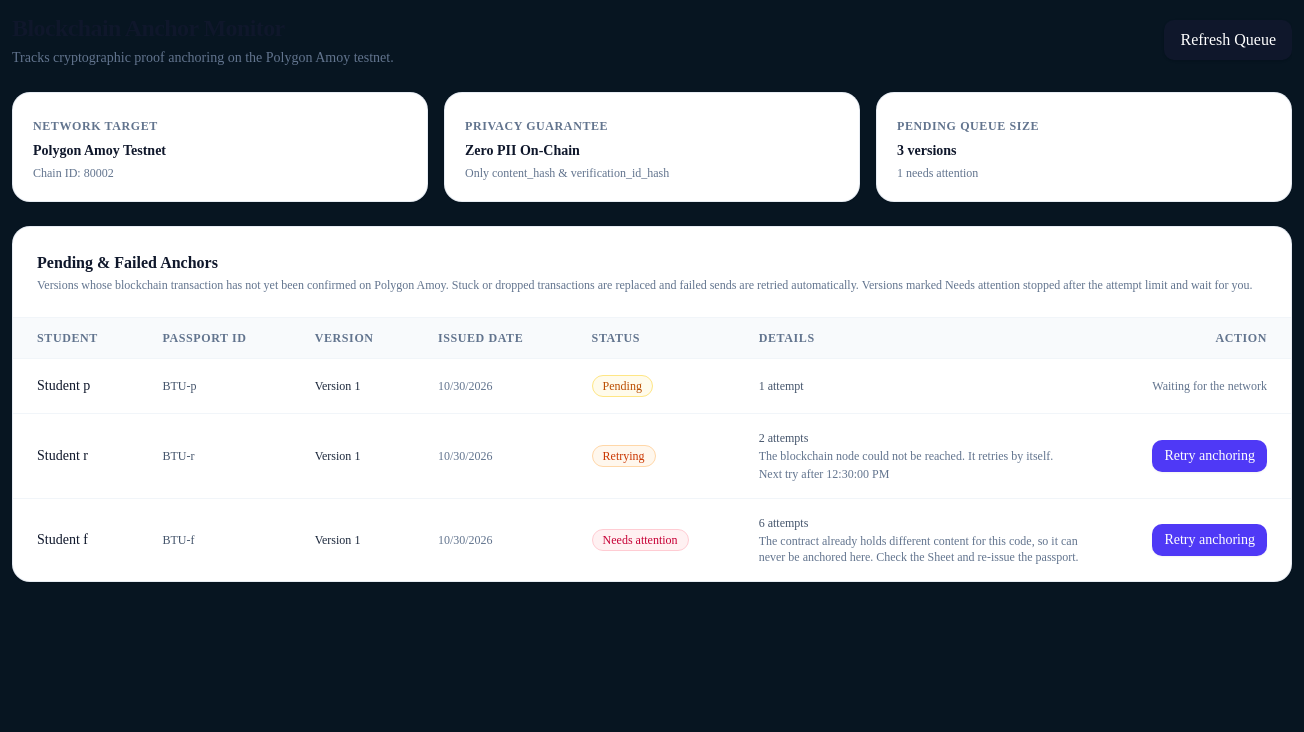
admin anchor monitor › says why when the retry still fails
Check: the link "Student f" is shown, box [37,532,88,547]
Click the button "Retry anchoring" in the row of "Student f" at (1210, 540), box [1152,524,1267,556]
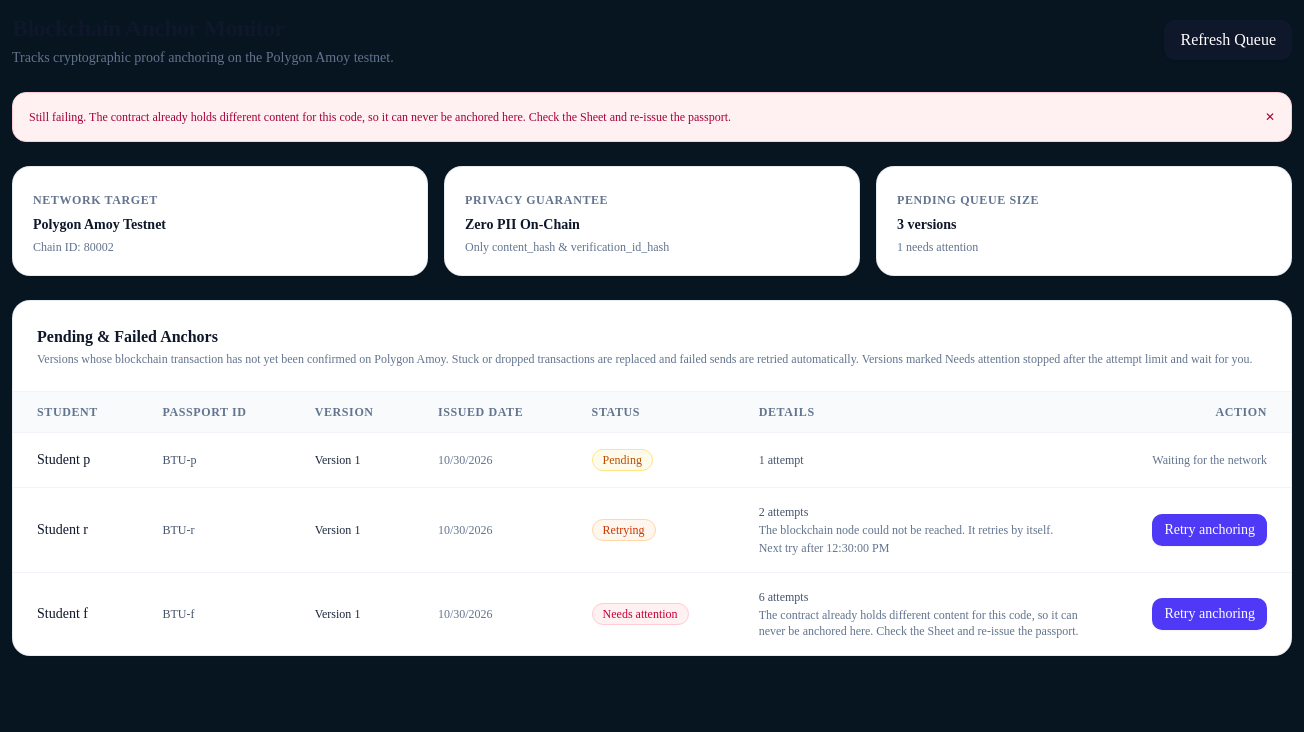
Check: the message with test id "anchor-notice" shows "Still failing", box [29,110,731,124]
